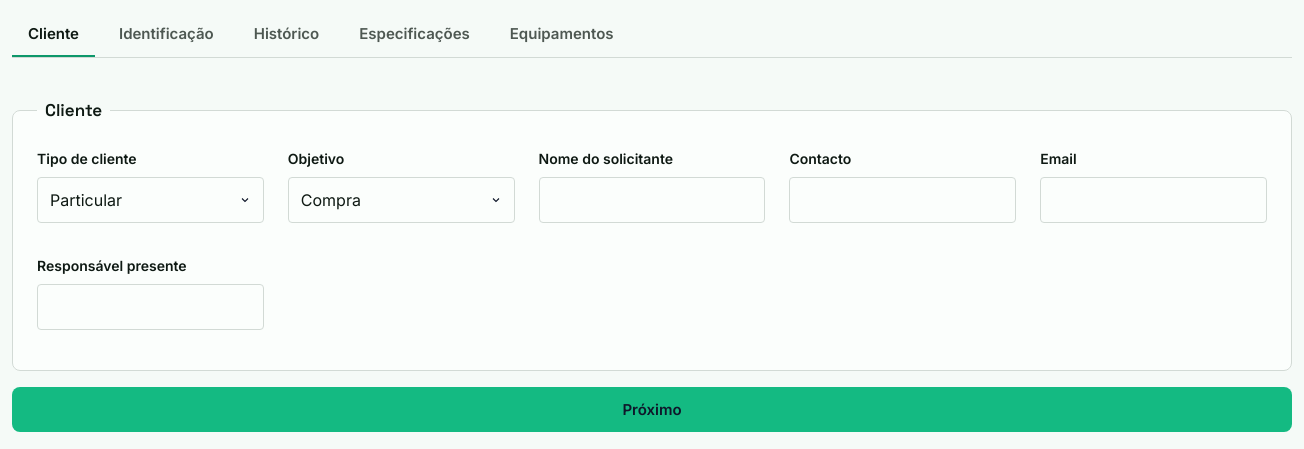
Test: NewInspectionForm › shows only the active tab's fields, keeping the others mounted
expect the field labelled "Nome do solicitante" is shown: met, box [539,176,765,222]
expect the field labelled "Matrícula" is not shown: met
Click the tab "Identificação": (166, 34) [103,12,230,57]
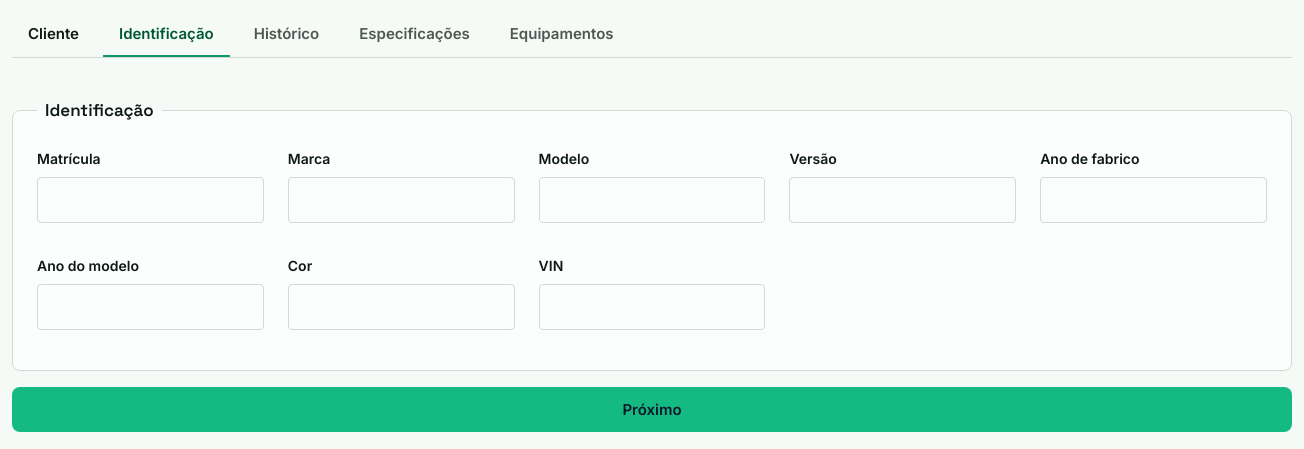
expect the field labelled "Matrícula" is shown: met, box [37,176,264,222]
expect the label labelled "Nome do solicitante" is gone: met
